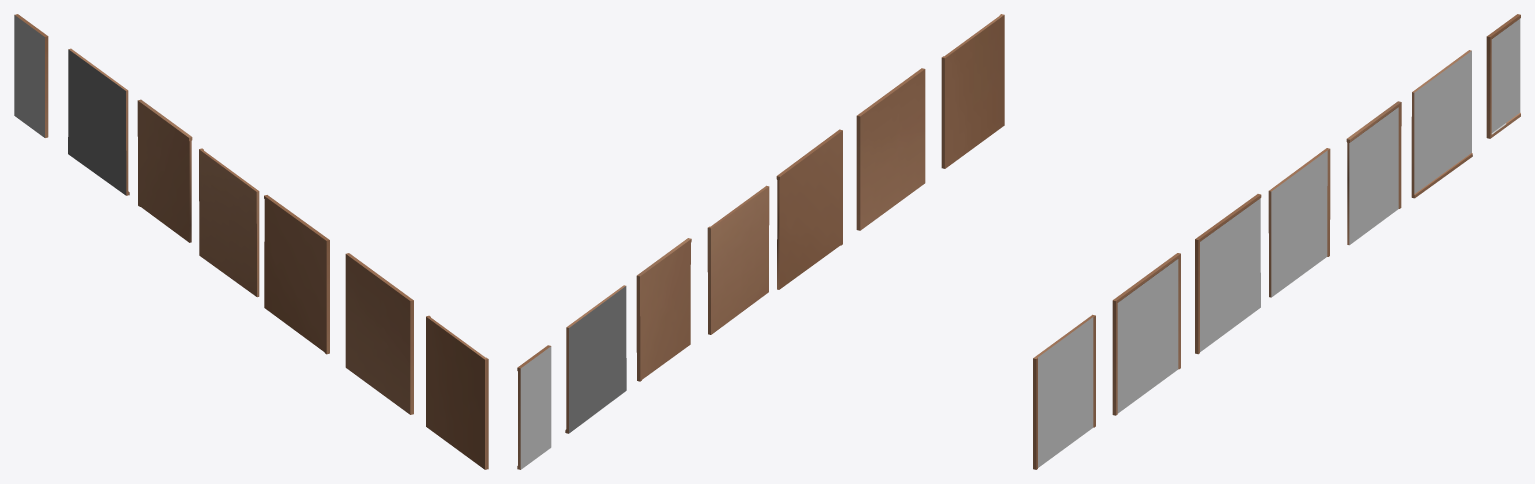
File: moduls suelo.fbx
3 views of the same model, side by side, from view 1: azimuth 30°, elevation 25°; view 2: azimuth 150°, elevation 25°; view 3: azimuth 330°, elevation 25° (orthographic).
Parts seen in each view (by area): view 1: suelo_cocina, suelo_garaje, suelo_entrada, suelo_libreria, suelo_salon, suelo12, suelo_baño; view 2: suelo_cocina, suelo_garaje, suelo_entrada, suelo_libreria, suelo_salon, suelo12, suelo_baño; view 3: suelo_cocina, suelo_garaje, suelo_entrada, suelo_libreria, suelo_salon, suelo12, suelo_baño.
Boxes of the visible parts, x1,y1,x2,y2 form: suelo_cocina: [345, 253, 413, 414]; suelo_garaje: [264, 195, 329, 354]; suelo_entrada: [426, 315, 488, 469]; suelo_libreria: [199, 148, 259, 297]; suelo_salon: [68, 48, 129, 195]; suelo12: [137, 99, 192, 242]; suelo_baño: [14, 14, 48, 137]; suelo_cocina: [856, 68, 925, 230]; suelo_garaje: [776, 129, 842, 289]; suelo_entrada: [941, 14, 1004, 168]; suelo_libreria: [707, 185, 769, 334]; suelo_salon: [565, 285, 626, 433]; suelo12: [636, 238, 691, 381]; suelo_baño: [517, 345, 551, 469]; suelo_cocina: [1112, 253, 1180, 415]; suelo_garaje: [1195, 194, 1261, 354]; suelo_entrada: [1033, 314, 1095, 469]; suelo_libreria: [1268, 148, 1330, 297]; suelo_salon: [1411, 50, 1472, 198]; suelo12: [1346, 101, 1401, 245]; suelo_baño: [1486, 14, 1520, 138].
Bounding box in the file's own units: 97.21 × 891 × 6757.
